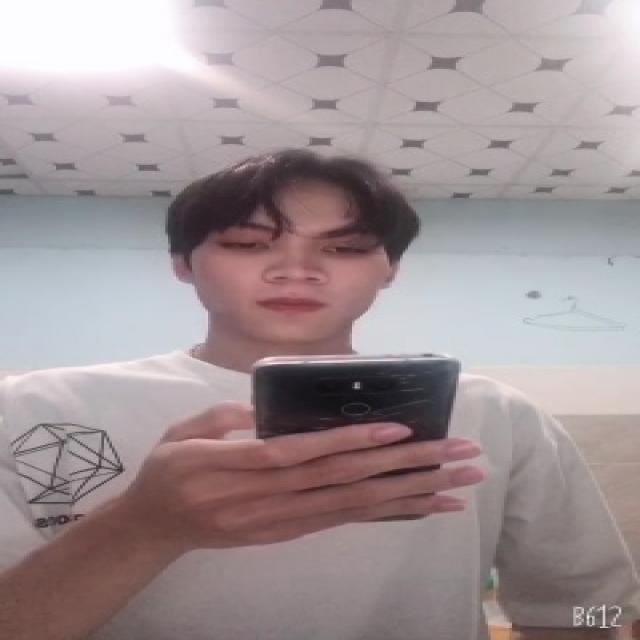Phone: (250, 355, 463, 528)
